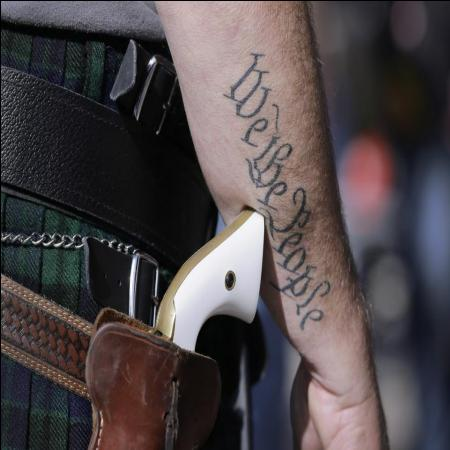Pistol: (74, 212, 268, 448)
